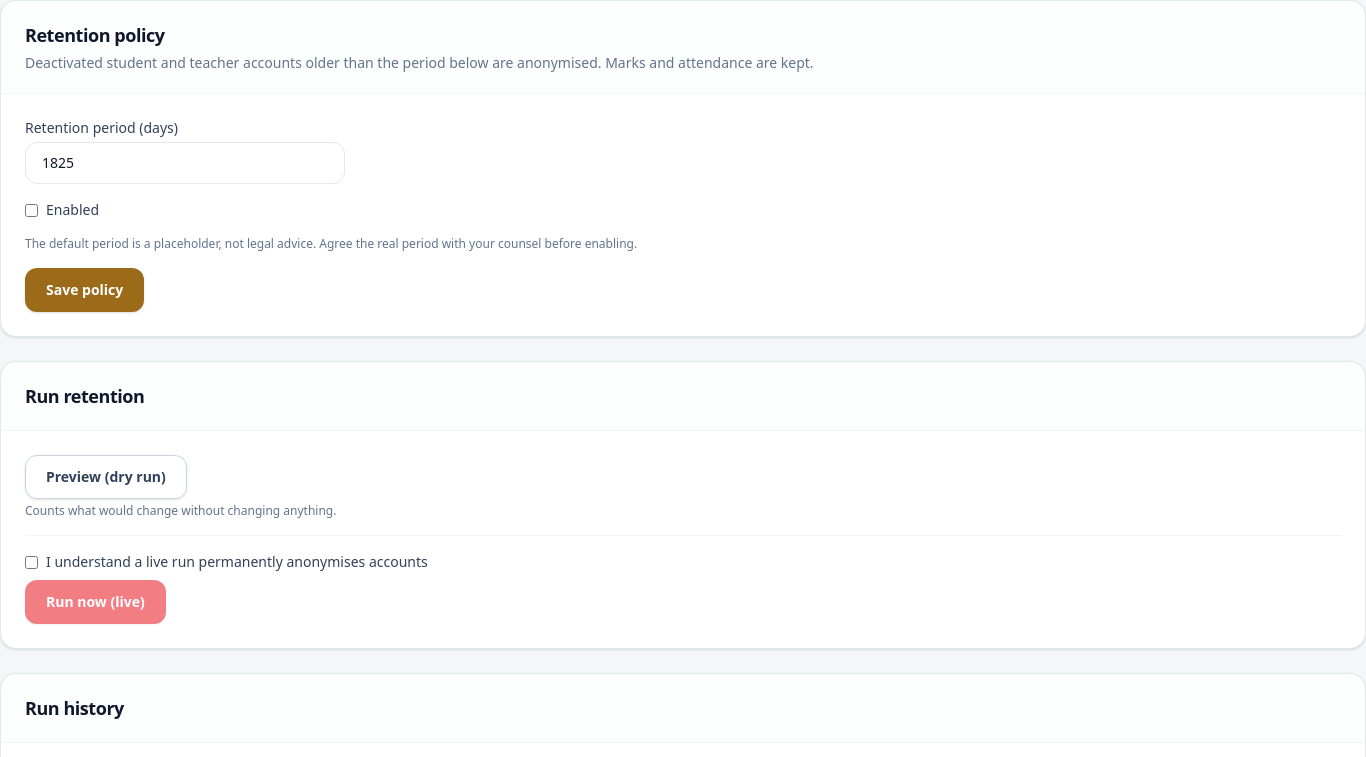
Test: PrivacyRetentionTab › refuses a period that is not a positive whole number
Replace the text in the number field labelled "Retention period (days)" with "0" at point(185, 163), box [25,142,345,184]
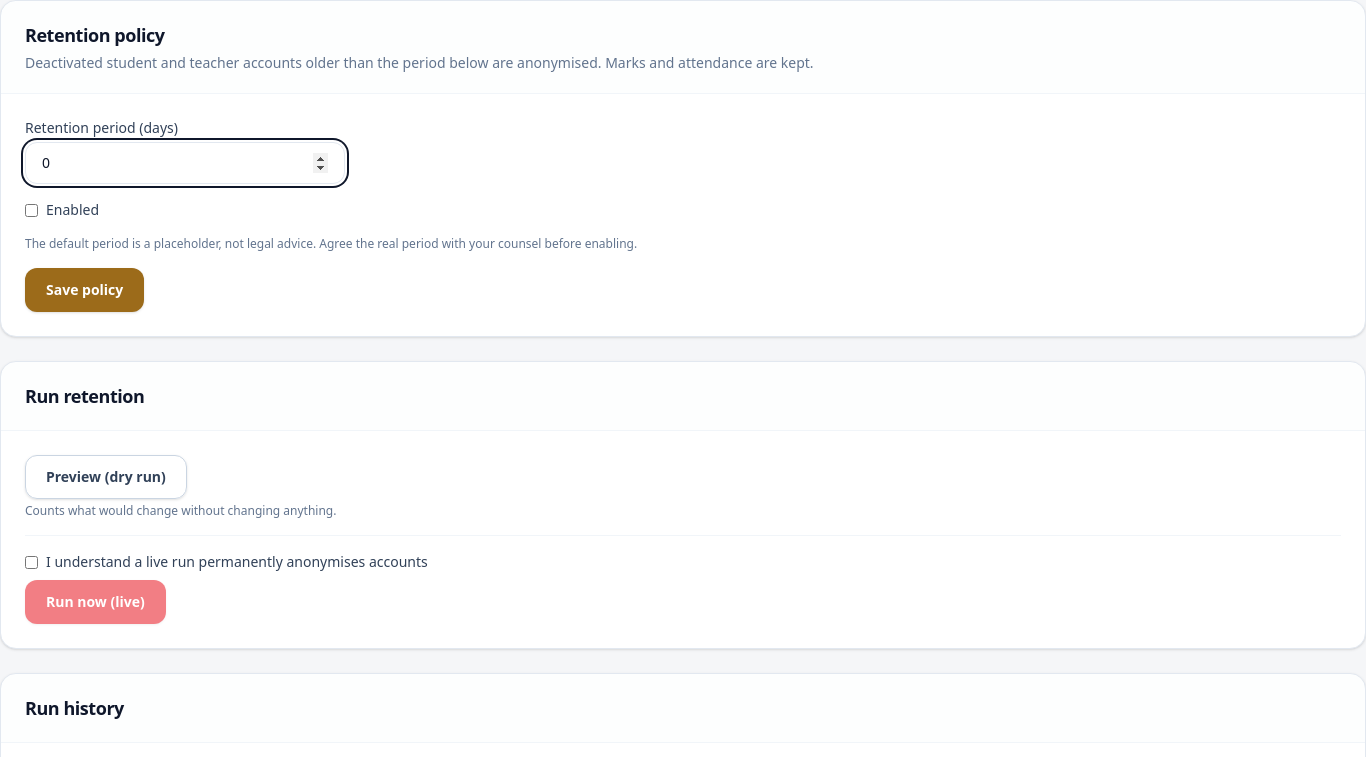
Click the button "Save policy" at point(85, 290), box [25,268,144,312]
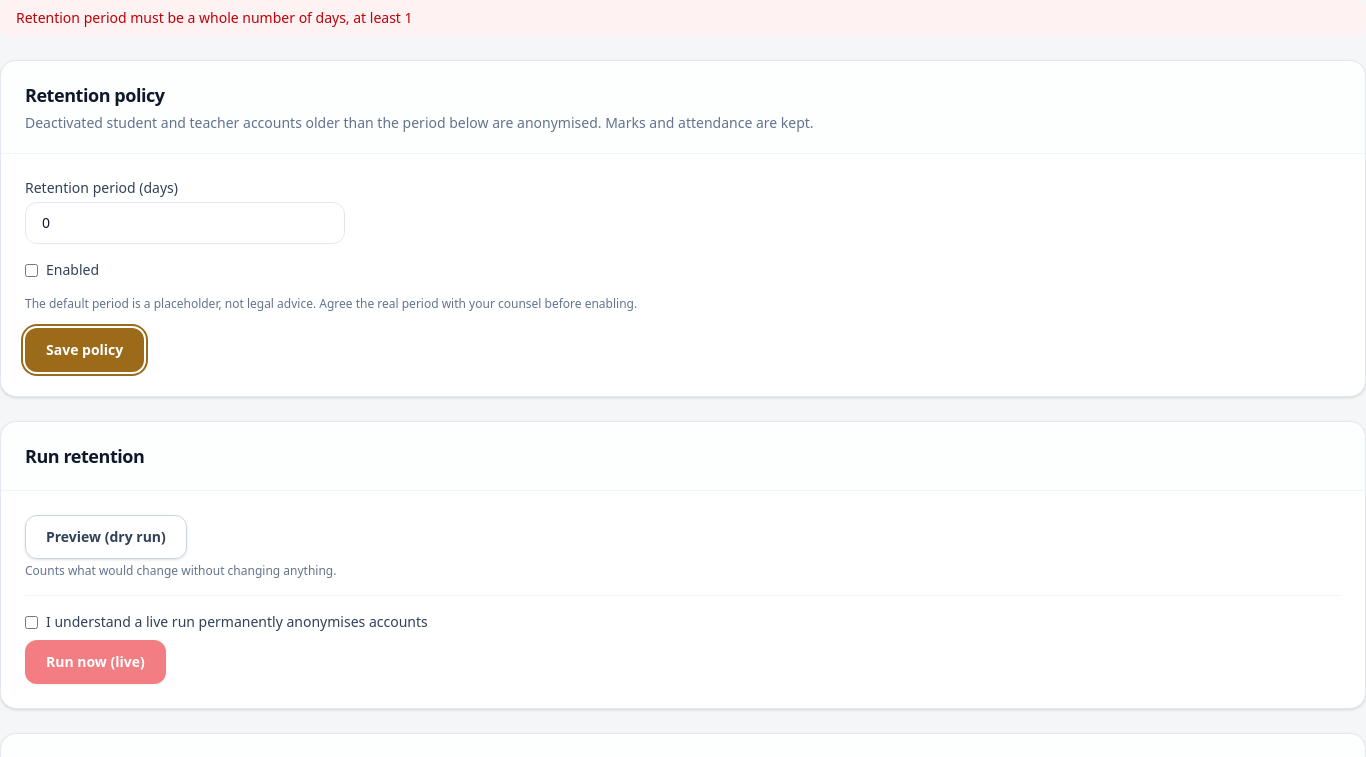
Check: the text "Retention period must be a whole number of days, at least 1" is shown, box [0,0,1365,36]
